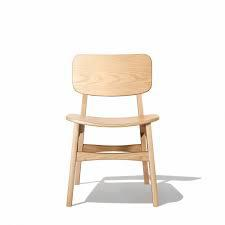chair: (48, 35, 195, 211)
